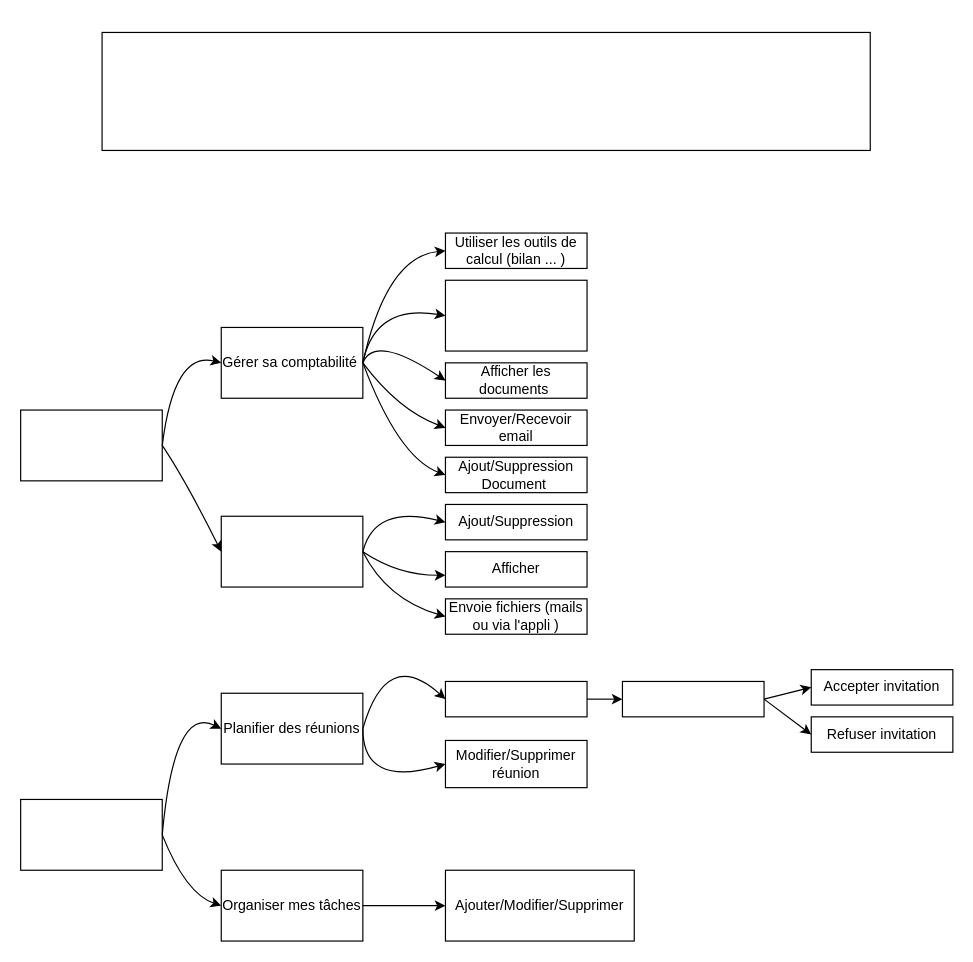
This 973x962 diagram has some shape labels left out. The shapes that lost their labels are listed below. From the top down, each one's centre as x and y in pixels, then its label:
At [485,90]: "Diagramme FAST du projet Starty".
At [515,315]: "Générer des templates ( factures , devis , fiches de paies)".
At [90,445]: "Réduction du temps passé sur des tâches administratives".
At [291,551]: "Gérer ses documents".
At [515,698]: "Ajouter réunions".
At [692,698]: "Ajouter membres".
At [90,834]: "Aide à l'organisation".
